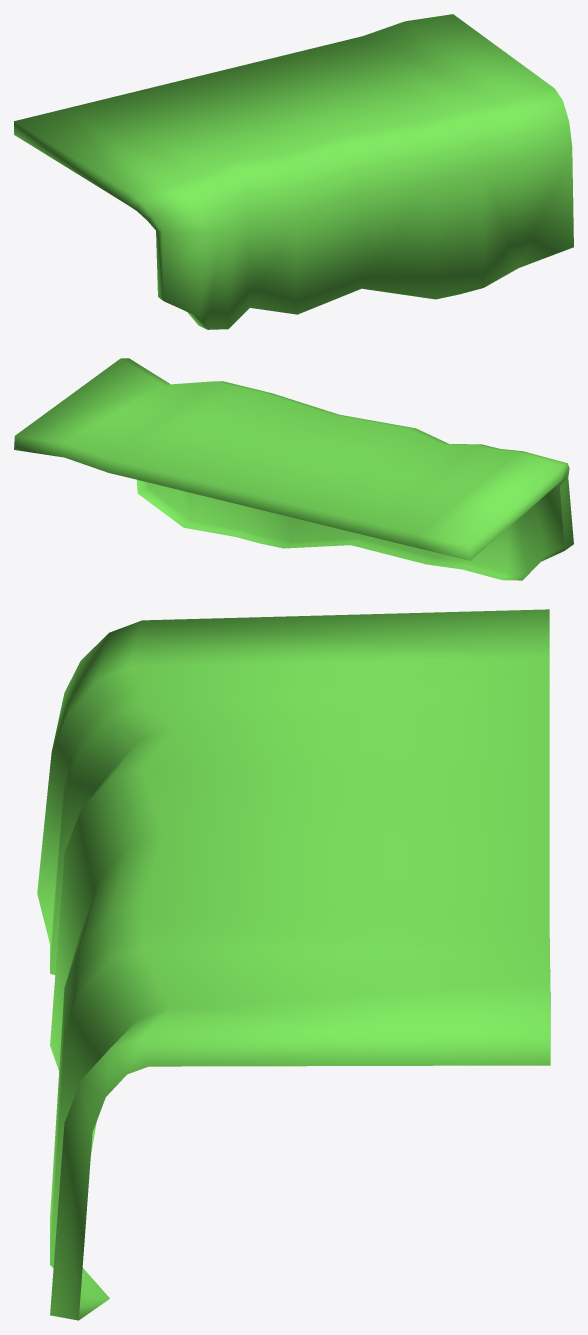
The model's file is Blanket.fbx.
3 views of the same model, one above another, from view 1: azimuth 30°, elevation 25°; view 2: azimuth 150°, elevation 25°; view 3: azimuth 270°, elevation 25° (orthographic). The views are drawn at different scales.
Visible parts, largest first — view 1: Plane.003; view 2: Plane.003; view 3: Plane.003.
Part boxes in pixels (box(x1,y1,x2,y2)): Plane.003: box(14, 14, 573, 329); Plane.003: box(14, 358, 573, 580); Plane.003: box(37, 609, 550, 1320).
Bounding box in the file's own units: 137 × 48.84 × 68.76.
